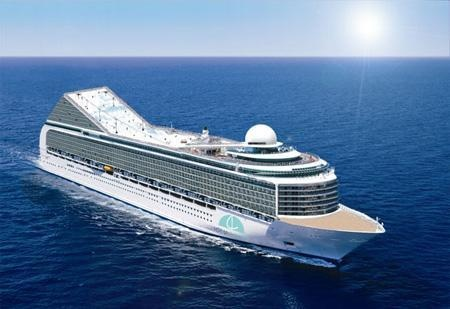youlun: (34, 85, 387, 267)
